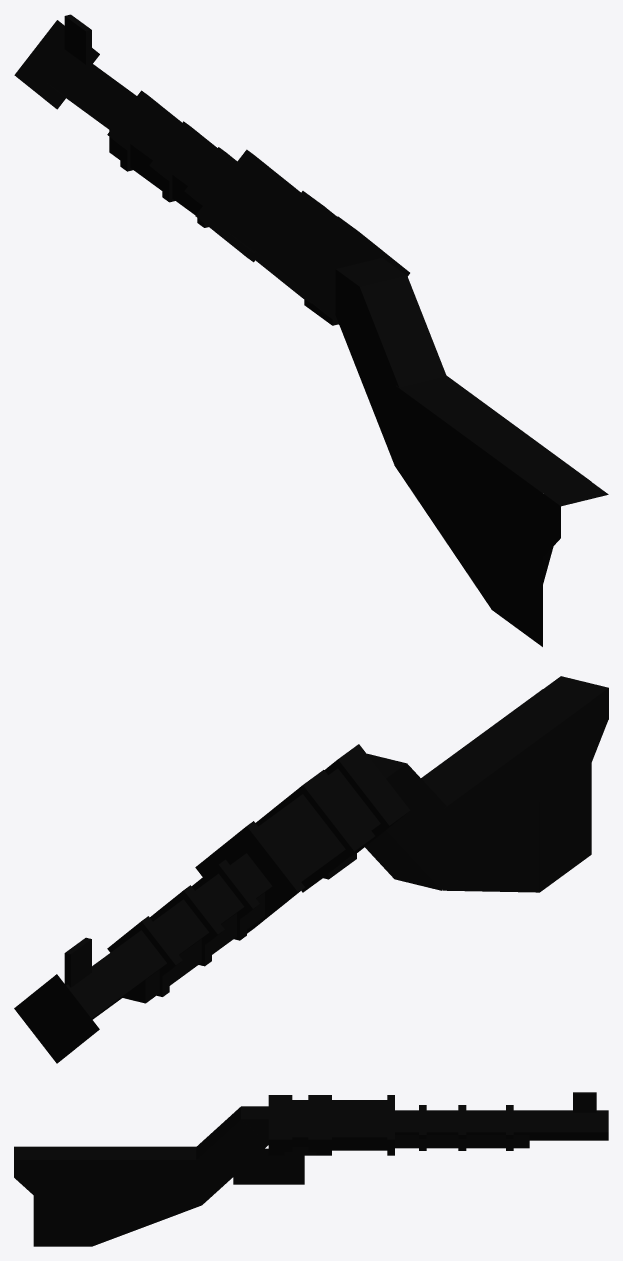
File: jeg_waterpipe_shotgun.glb
The picture shows the model from 3 angles, top to bottom: view 1: azimuth 30°, elevation 25°; view 2: azimuth 150°, elevation 25°; view 3: azimuth 270°, elevation 25°; orthographic projection. The views are drawn at different scales.
Parts seen in each view (by area): view 1: Gun; view 2: Gun; view 3: Gun.
Part boxes in pixels (x1,y1,x2,y2): Gun: [14, 14, 608, 646]; Gun: [14, 676, 608, 1063]; Gun: [14, 1092, 608, 1246].
Size of the model in its own units: 0.1061 by 0.2562 by 0.9408.
1 material, 1 textured.
